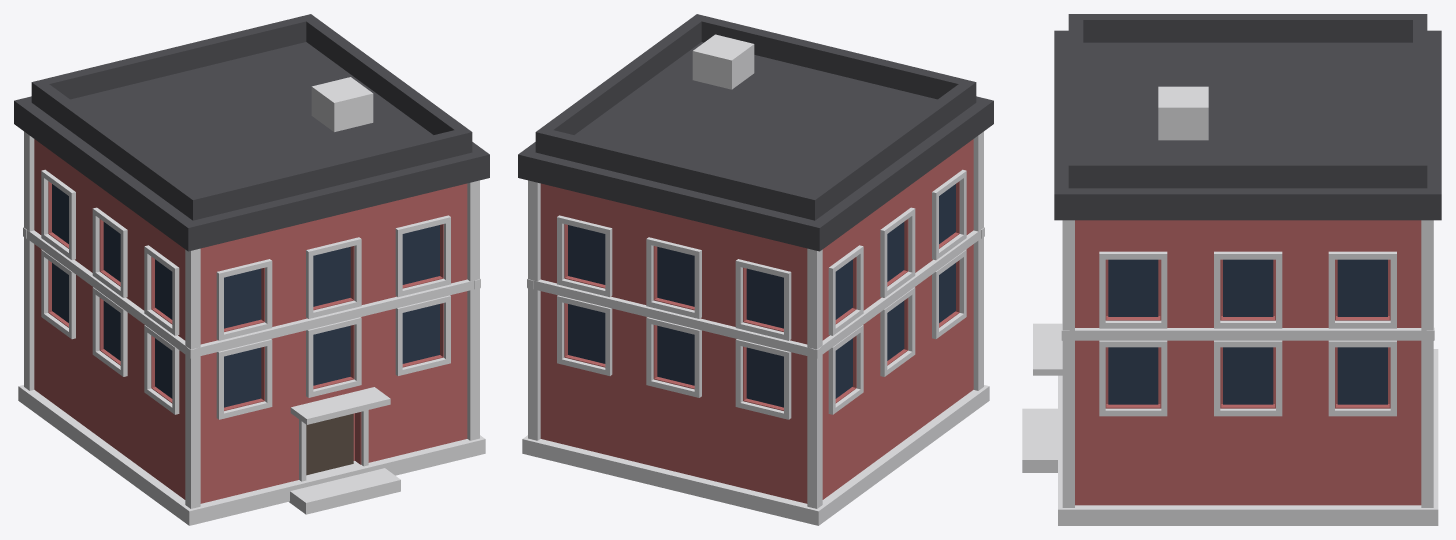
Rendered from BuildingDetailed.fbx.
3 views of the same model, side by side, from view 1: azimuth 30°, elevation 25°; view 2: azimuth 150°, elevation 25°; view 3: azimuth 270°, elevation 25° (orthographic). The views are drawn at different scales.
Visible parts, largest first — view 1: Building Body, Building Roof, Roof Parapet, Window Frames, Window Glass, Corner Pilasters, Plinth, Belt Course, Stoop, Roof Vent, Door Panel, Door Awning (+1 smaller); view 2: Building Body, Building Roof, Roof Parapet, Window Frames, Window Glass, Corner Pilasters, Plinth, Belt Course, Roof Vent; view 3: Building Body, Building Roof, Roof Parapet, Window Glass, Window Frames, Plinth, Corner Pilasters, Belt Course, Roof Vent, Stoop, Door Awning.
Boxes of the visible parts, bbox=[...] form: Building Body: bbox=[34, 139, 467, 503]; Building Roof: bbox=[14, 42, 489, 251]; Roof Parapet: bbox=[31, 14, 472, 220]; Window Frames: bbox=[41, 169, 450, 419]; Window Glass: bbox=[52, 184, 439, 407]; Corner Pilasters: bbox=[24, 131, 479, 508]; Plinth: bbox=[18, 385, 485, 525]; Belt Course: bbox=[23, 227, 480, 358]; Stoop: bbox=[289, 468, 400, 514]; Roof Vent: bbox=[311, 77, 373, 132]; Door Panel: bbox=[306, 413, 353, 475]; Door Awning: bbox=[290, 387, 390, 424]; Building Body: bbox=[540, 139, 973, 503]; Building Roof: bbox=[518, 42, 993, 251]; Roof Parapet: bbox=[535, 14, 976, 220]; Window Frames: bbox=[557, 169, 966, 419]; Window Glass: bbox=[568, 184, 955, 407]; Corner Pilasters: bbox=[528, 131, 983, 508]; Plinth: bbox=[522, 385, 989, 525]; Belt Course: bbox=[527, 227, 984, 358]; Roof Vent: bbox=[692, 34, 754, 89]; Building Body: bbox=[1075, 220, 1421, 505]; Building Roof: bbox=[1054, 30, 1441, 220]; Roof Parapet: bbox=[1068, 14, 1427, 188]; Window Glass: bbox=[1108, 259, 1387, 404]; Window Frames: bbox=[1099, 251, 1396, 416]; Plinth: bbox=[1058, 349, 1438, 525]; Corner Pilasters: bbox=[1062, 220, 1433, 507]; Belt Course: bbox=[1061, 220, 1434, 340]; Roof Vent: bbox=[1158, 86, 1208, 140]; Stoop: bbox=[1022, 408, 1057, 472]; Door Awning: bbox=[1033, 323, 1062, 375].
Bounding box in the file's own units: 108 × 119 × 117.
